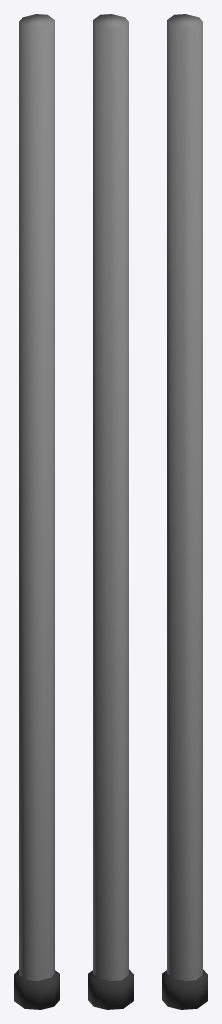
File: WhiteBoard_Stand_2.fbx
3 renders of one model, left to right at view 1: azimuth 30°, elevation 25°; view 2: azimuth 150°, elevation 25°; view 3: azimuth 330°, elevation 25°, orthographic.
Parts seen in each view (by area): view 1: WhiteBoard_Stand_2; view 2: WhiteBoard_Stand_2; view 3: WhiteBoard_Stand_2.
Part boxes in pixels (left/top/right/bottom): WhiteBoard_Stand_2: left=14, top=14, right=59, bottom=1009; WhiteBoard_Stand_2: left=88, top=14, right=133, bottom=1009; WhiteBoard_Stand_2: left=162, top=14, right=207, bottom=1009.
Bounding box in the file's own units: 4.34 × 115 × 4.45.
